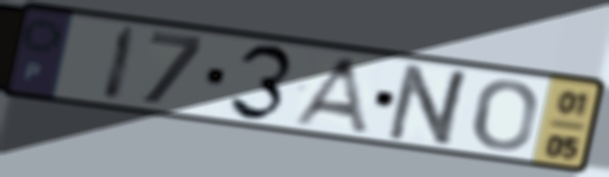3: (222, 42, 300, 124)
7: (138, 28, 210, 109)
A: (286, 54, 372, 137)
I: (98, 22, 142, 106)
N: (382, 61, 477, 150)
O: (470, 77, 540, 153)
